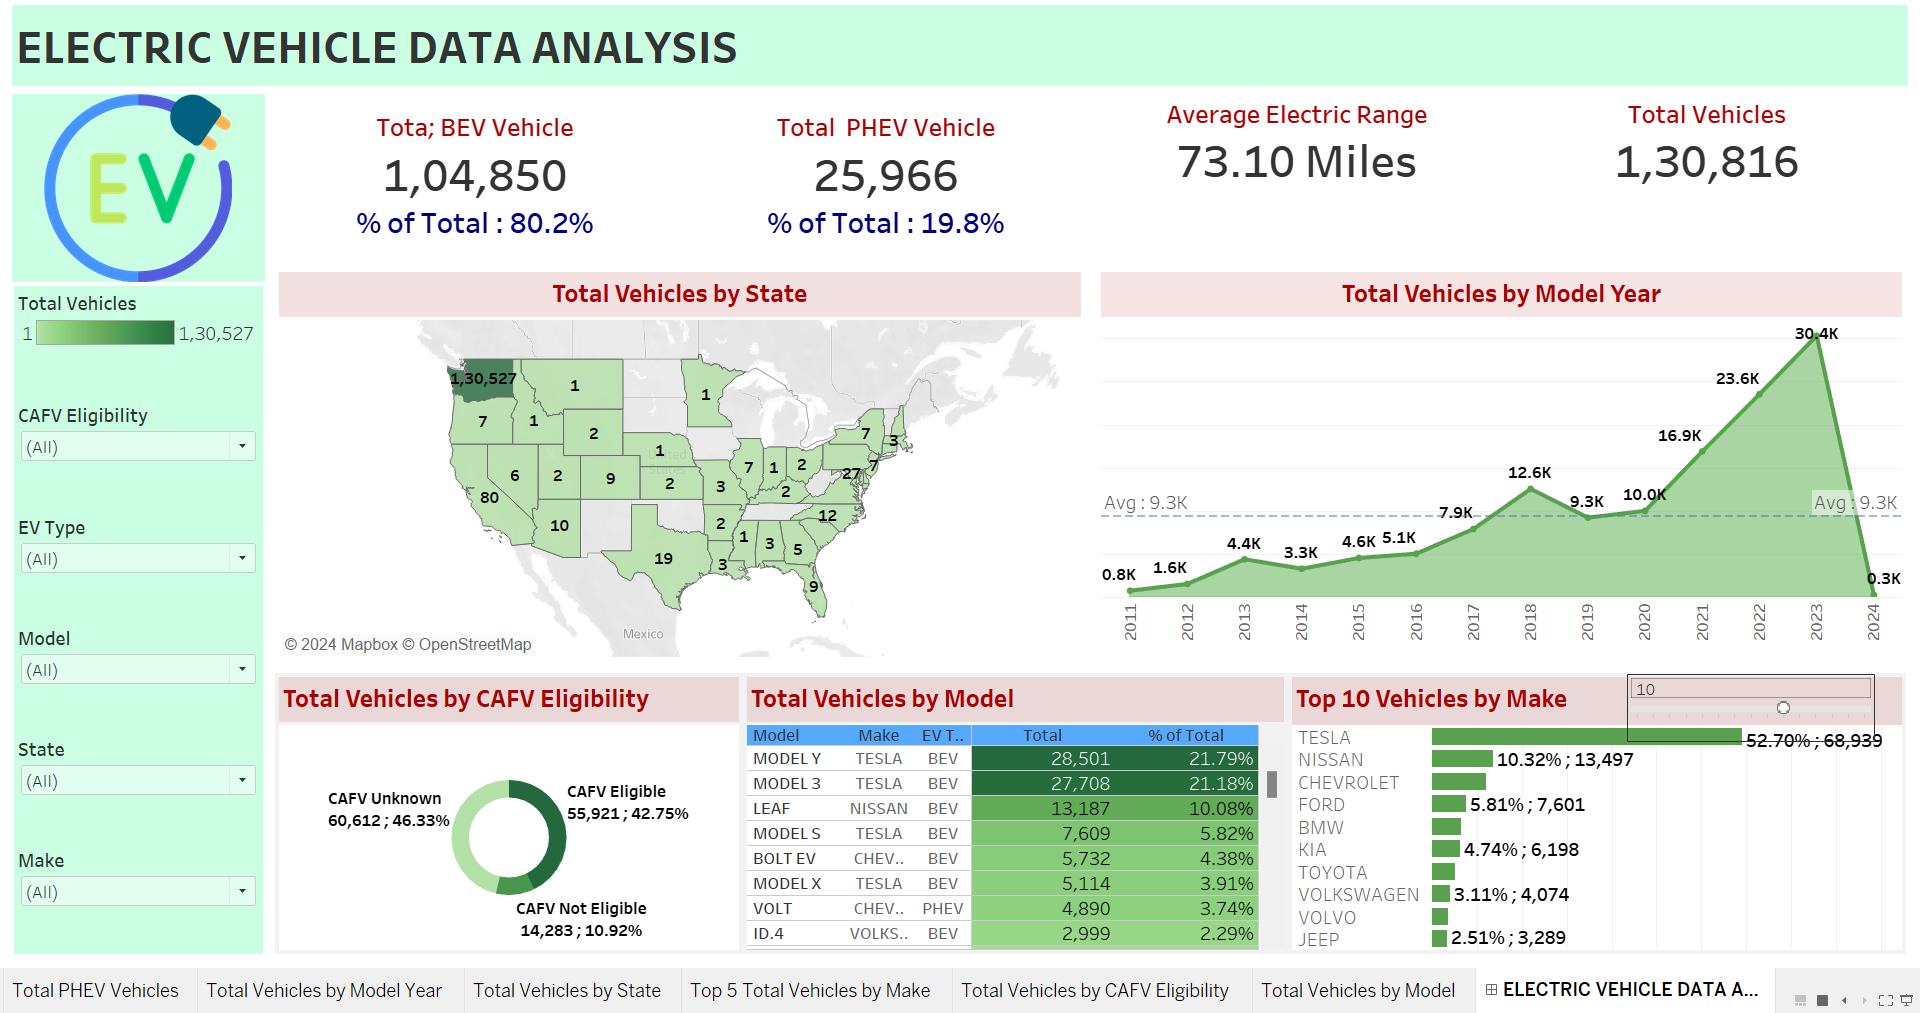

The page's visual inventory and layout, read from the dashboard file:
{"tool":"tableau","page":{"name":"ELECTRIC VEHICLE DATA ANALYSIS","canvas":[1000,1000],"units":"permille","ordinal":0},"visuals":[{"type":"title","box":[4.2,10.7,991.5,90.8]},{"type":"image","param":"Image/7030599.png","box":[4.2,101.5,135.8,200.2]},{"type":"worksheet","title":"Total BEV Vehicles","mark":"Automatic","box":[140.3,101.9,214.1,230.6]},{"type":"worksheet","title":"Total PHEV Vehicles","mark":"Automatic","box":[354.4,101.9,214.1,230.6]},{"type":"worksheet","title":"Average Electric Range","mark":"Automatic","box":[568.5,101.9,213.6,230.6]},{"type":"worksheet","title":"Total Vehicles","mark":"Automatic","box":[782.1,101.9,213.6,230.6]},{"type":"legend","title":"Total Vehicles by State","param":"[federated.0fziyp50z1lf6q1bxat1q13gtk00].[usr:Calculation_872291005165506561:qk]","box":[7.4,301.6,129.7,113.9]},{"type":"worksheet","title":"Total Vehicles by State","mark":"Multipolygon","box":[143.3,340.1,421.9,342.2]},{"type":"worksheet","title":"Total Vehicles by Model Year","mark":"Area","rows":["Calculation_872291005165506561","Calculation_872291005165506561"],"cols":["Model Year"],"box":[571.6,340.1,421,342.2]},{"type":"filter","title":"Total Vehicles by Model Year","param":"[federated.0fziyp50z1lf6q1bxat1q13gtk00].[none:Clean Alternative Fuel Vehicle (C","box":[7.4,415.6,129.7,113.9]},{"type":"filter","title":"Total Vehicles by Model Year","param":"[federated.0fziyp50z1lf6q1bxat1q13gtk00].[none:Electric Vehicle Type:nk]","box":[7.4,529.5,129.7,113.9]},{"type":"filter","title":"Total Vehicles by Model Year","param":"[federated.0fziyp50z1lf6q1bxat1q13gtk00].[none:Model:nk]","box":[7.4,643.4,129.7,112.6]},{"type":"worksheet","title":"Total Vehicles by CAFV Eligibility","mark":"Pie","rows":["Calculation_872291005213245450","Calculation_872291005213245450"],"box":[143.3,698.4,248.7,282.9]},{"type":"worksheet","title":"Total Vehicles by Model","mark":"Square","rows":["Model","Make","Electric Vehicle Type"],"box":[391.9,698.4,289.6,282.9]},{"type":"worksheet","title":"Top 5 Total Vehicles by Make","mark":"Bar","rows":["Make"],"cols":["Calculation_872291005165506561"],"box":[681.5,698.4,311.1,282.9]},{"type":"parameter","param":"[Parameters].[Parameter 2]","box":[847.5,698.4,129.1,69.7]},{"type":"filter","title":"Total Vehicles by Model Year","param":"[federated.0fziyp50z1lf6q1bxat1q13gtk00].[none:State:nk]","box":[7.4,756,129.7,112.6]},{"type":"filter","title":"Total Vehicles by Model Year","param":"[federated.0fziyp50z1lf6q1bxat1q13gtk00].[none:Make:nk]","box":[7.4,868.6,129.7,112.6]}]}

Visuals, with their boxes on the dashboard's canvas, which has no fixed pixel size, in thousandths of its width and height (x1, y1, x2, y2). These are canvas units, not pixel positions in the 1920x1013 screenshot, which may show the page scaled, cropped or inside an application window:
title: (4,11,996,102)
image: (4,102,140,302)
"Total BEV Vehicles" worksheet: (140,102,354,332)
"Total PHEV Vehicles" worksheet: (354,102,568,332)
"Average Electric Range" worksheet: (568,102,782,332)
"Total Vehicles" worksheet: (782,102,996,332)
"Total Vehicles by State" legend: (7,302,137,416)
"Total Vehicles by State" worksheet (Multipolygon marks): (143,340,565,682)
"Total Vehicles by Model Year" worksheet (Area marks): (572,340,993,682)
"Total Vehicles by Model Year" filter: (7,416,137,530)
"Total Vehicles by Model Year" filter: (7,530,137,643)
"Total Vehicles by Model Year" filter: (7,643,137,756)
"Total Vehicles by CAFV Eligibility" worksheet (Pie marks): (143,698,392,981)
"Total Vehicles by Model" worksheet (Square marks): (392,698,682,981)
"Top 5 Total Vehicles by Make" worksheet (Bar marks): (682,698,993,981)
parameter: (848,698,977,768)
"Total Vehicles by Model Year" filter: (7,756,137,869)
"Total Vehicles by Model Year" filter: (7,869,137,981)
